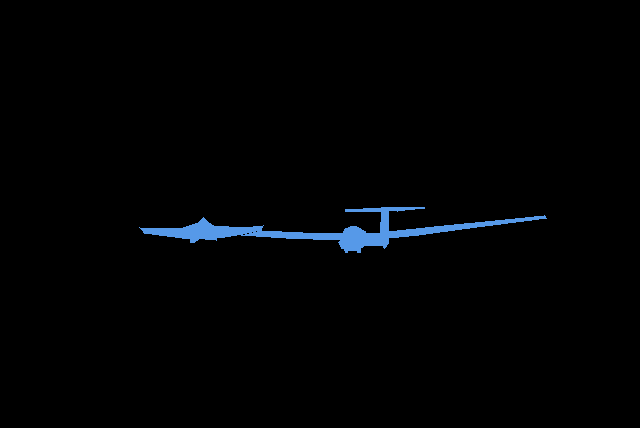Airplane: (241, 207, 546, 253), (139, 217, 264, 243)
